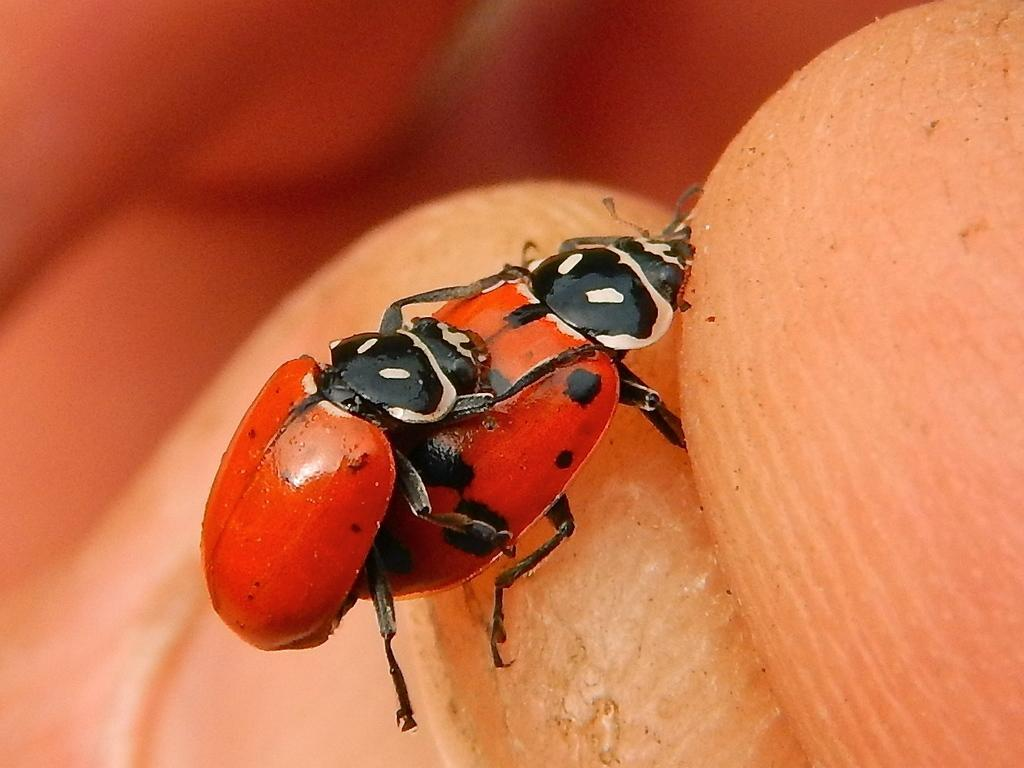ladybug: (201, 263, 623, 735), (351, 185, 705, 671)
